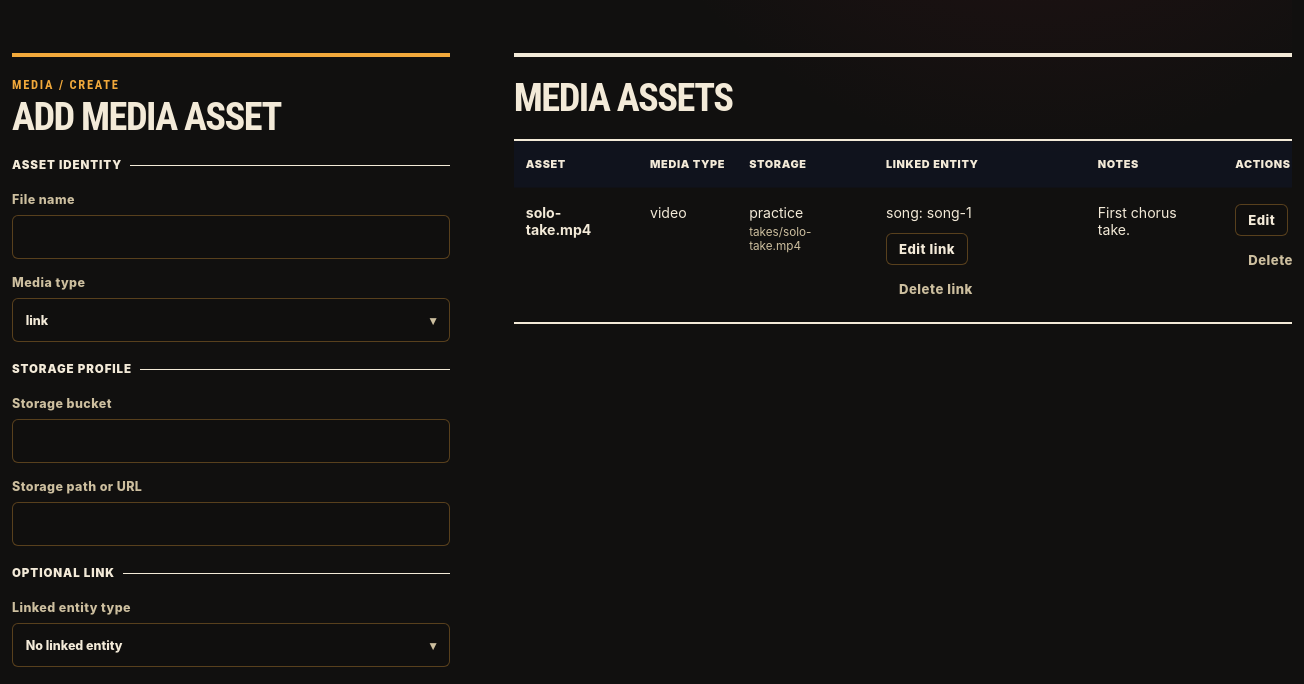
Test: LibraryPage › deletes a media link and refreshes the list
(page scrolled)
Expected: the text "solo-take.mp4" is shown, x1=526 y1=204 x2=591 y2=238
Click the button with aria-label "Delete link song: song-1": click(936, 289) x1=886 y1=273 x2=986 y2=305
(page scrolled)
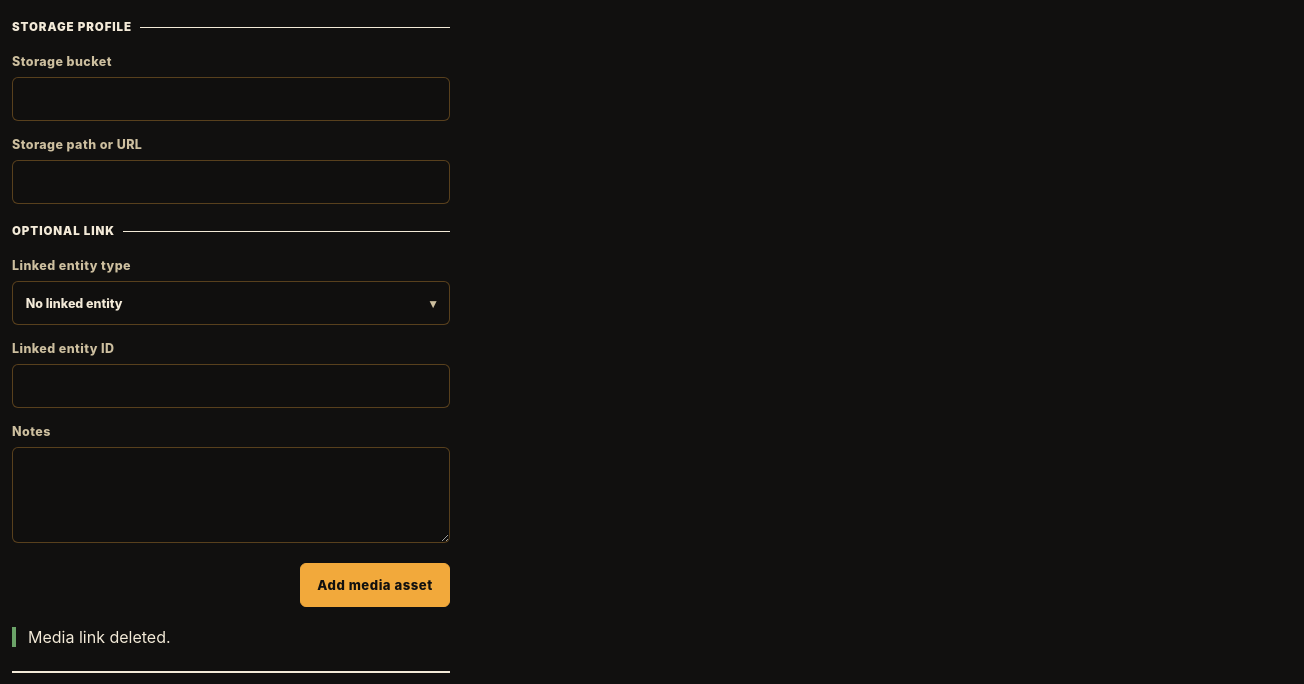
Result: the text "Media link deleted." is shown at x1=12 y1=627 x2=450 y2=647
